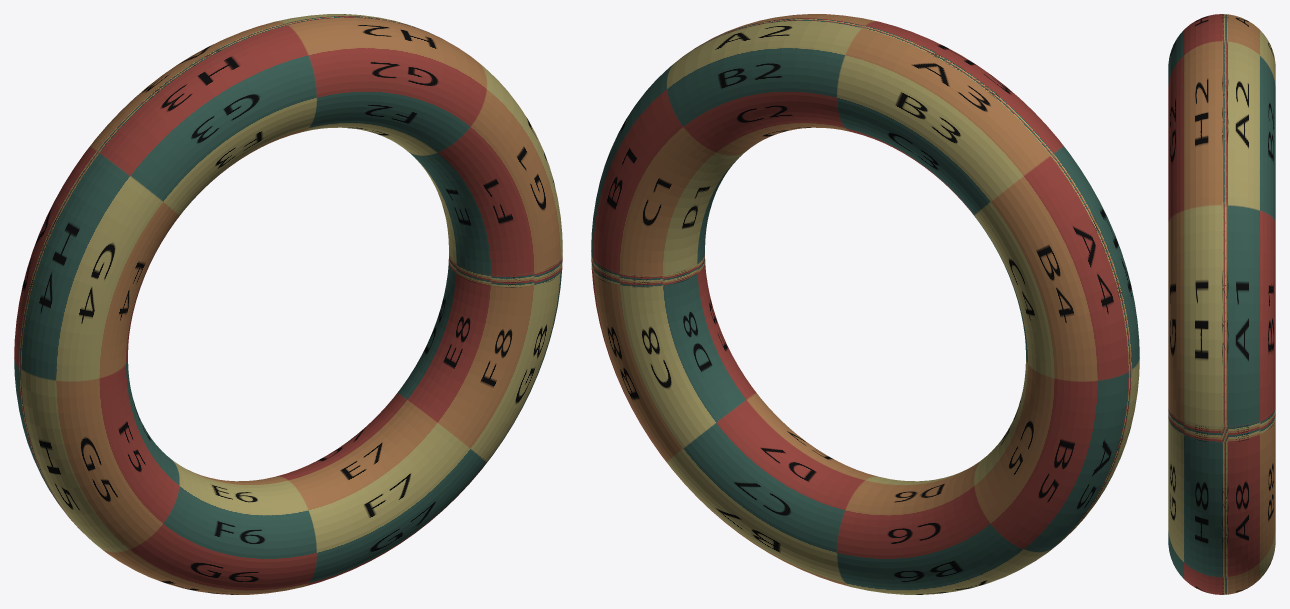
Rendered from texture_torus_R3_r2.glb.
3 renders of one model, left to right at view 1: azimuth 30°, elevation 25°; view 2: azimuth 150°, elevation 25°; view 3: azimuth 270°, elevation 25°, orthographic. The views are drawn at different scales.
Visible parts, largest first — view 1: world; view 2: world; view 3: world.
Part boxes in pixels (x1,y1,x2,y2): world: (14, 14, 562, 594); world: (591, 14, 1139, 594); world: (1168, 14, 1275, 594).
Size of the model in its own units: 20.44 by 20.44 by 3.77.
Materials: 1 (1 with a texture image).
